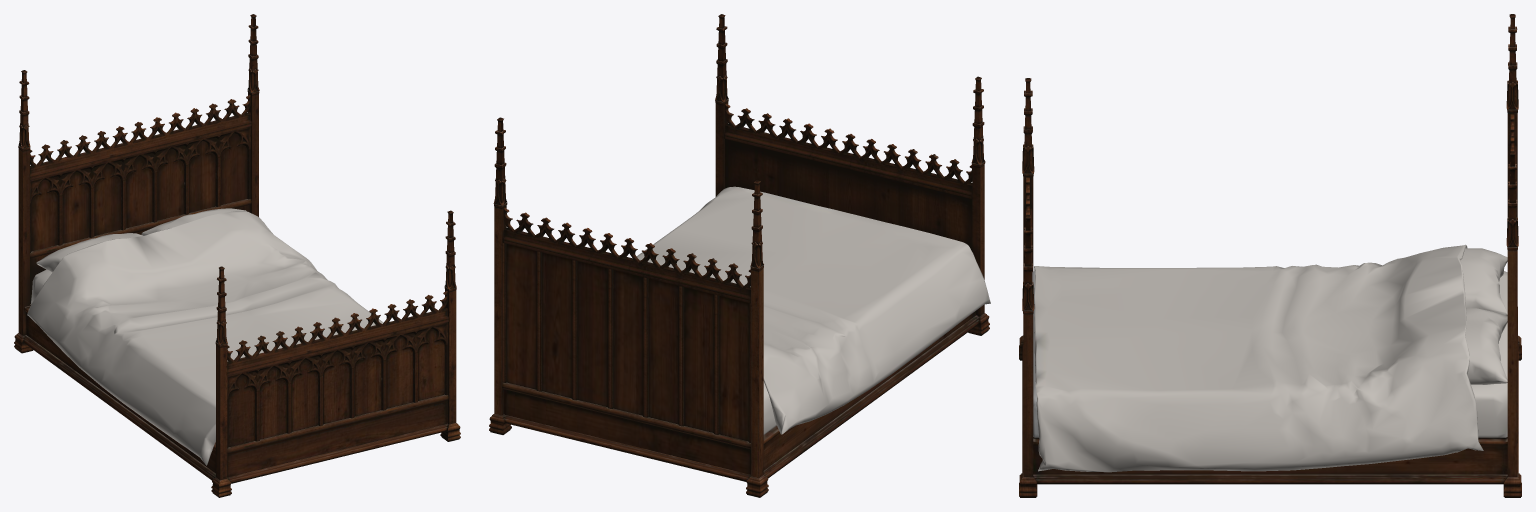
The model's file is GothicBed_01.glb.
The picture shows the model from 3 angles, left to right: view 1: azimuth 30°, elevation 25°; view 2: azimuth 150°, elevation 25°; view 3: azimuth 270°, elevation 25°; orthographic projection. The views are drawn at different scales.
Parts seen in each view (by area): view 1: GothicBed_01; view 2: GothicBed_01; view 3: GothicBed_01.
Part boxes in pixels (x1,y1,x2,y2): GothicBed_01: [14, 14, 460, 497]; GothicBed_01: [489, 14, 990, 497]; GothicBed_01: [1019, 14, 1521, 497].
Size of the model in its own units: 1.49 by 1.53 by 2.04.
Materials: 1 (1 with a texture image).
